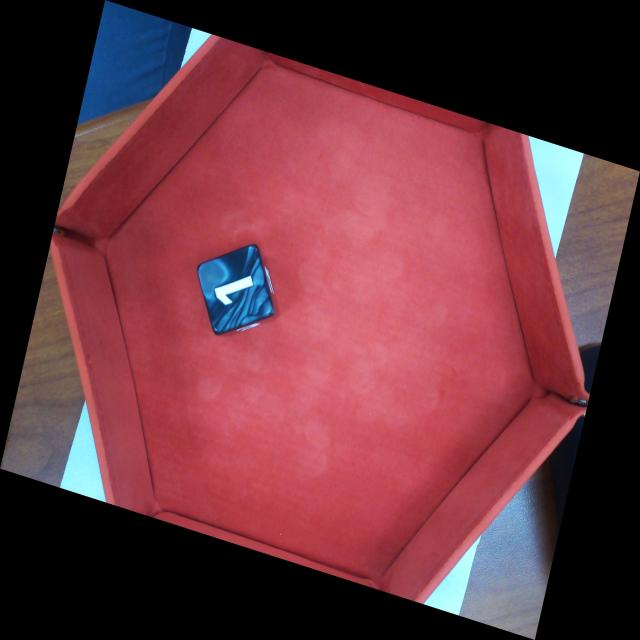dice: (203, 247, 275, 329)
